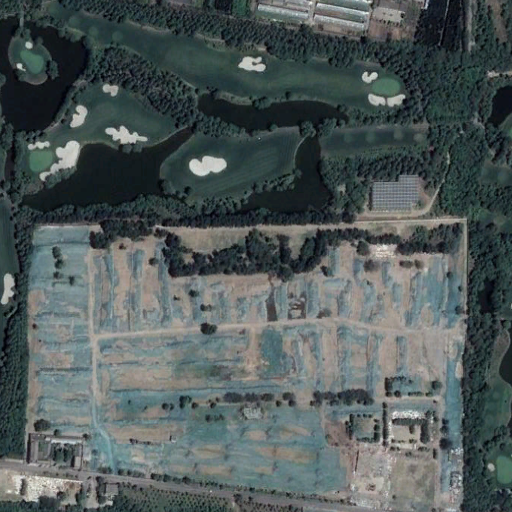cw: (28, 218, 469, 512)
